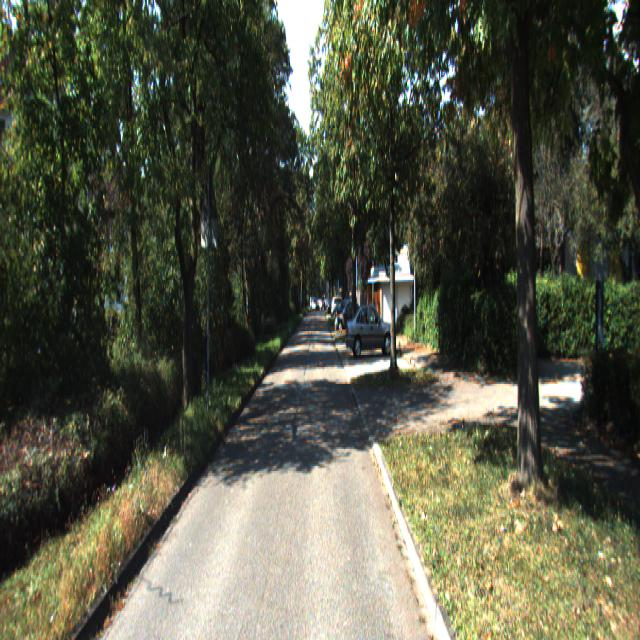Car: (344, 300, 396, 358), (334, 298, 362, 332)
